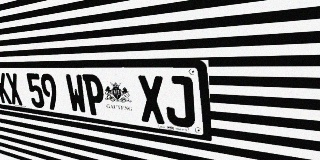5: (26, 73, 46, 109)
9: (39, 73, 60, 111)
J: (163, 76, 195, 129)
K: (0, 73, 12, 104)
P: (82, 74, 107, 117)
W: (65, 74, 88, 114)
X: (137, 75, 166, 125), (5, 73, 23, 106)
